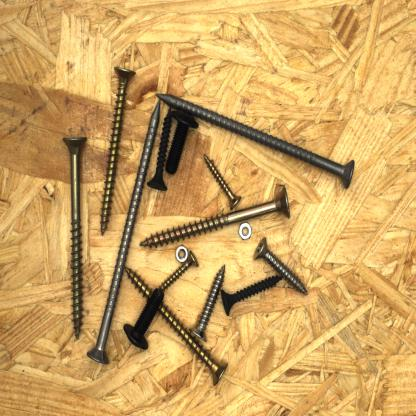screw: (84, 95, 164, 368), (153, 90, 360, 194), (122, 264, 231, 390), (137, 183, 294, 251), (96, 61, 141, 239), (60, 132, 90, 343), (250, 234, 310, 300), (187, 260, 228, 345), (218, 272, 288, 319), (121, 284, 167, 352), (162, 107, 202, 178), (145, 102, 174, 194), (202, 152, 245, 214), (157, 247, 202, 294)
